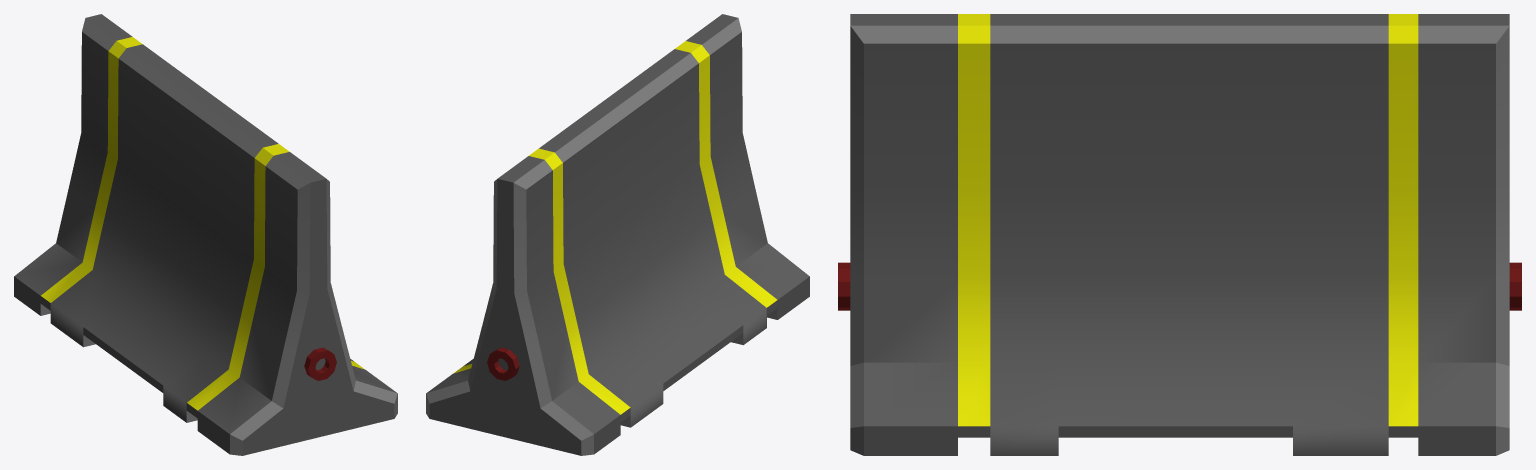
File: ConcreteBarrier.fbx
3 views of the same model, side by side, from view 1: azimuth 30°, elevation 25°; view 2: azimuth 150°, elevation 25°; view 3: azimuth 270°, elevation 25° (orthographic). The views are drawn at different scales.
Visible parts, largest first — view 1: pCube3; view 2: pCube3; view 3: pCube3.
Part boxes in pixels (x1,y1,x2,y2): pCube3: [14, 14, 397, 455]; pCube3: [426, 14, 809, 455]; pCube3: [838, 14, 1521, 455].
Bounding box in the file's own units: 23.44 × 34.21 × 56.36.
